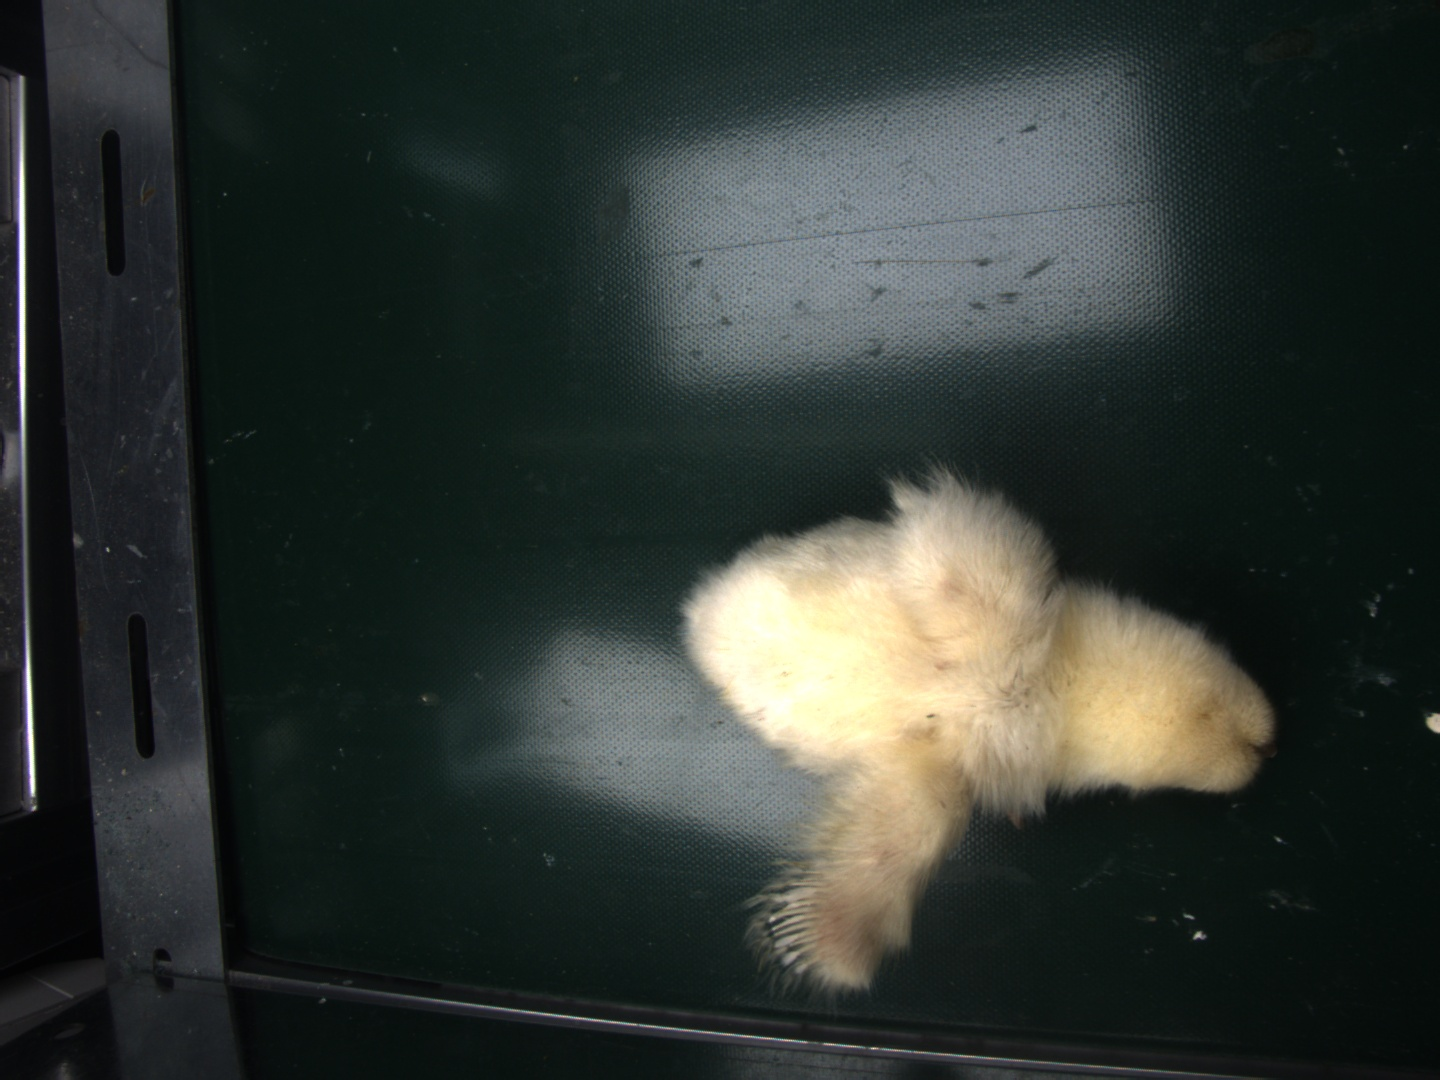male: (765, 884, 833, 974)
